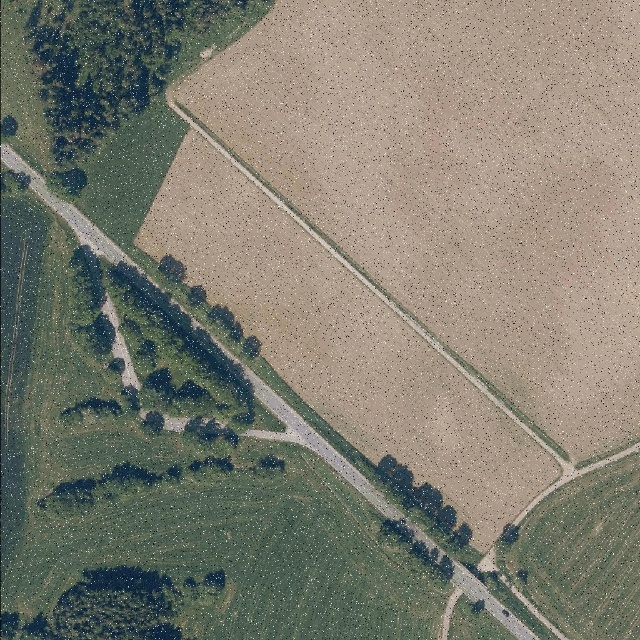vegetation: (22, 2, 274, 198), (109, 266, 254, 432), (44, 430, 284, 516), (0, 574, 228, 639), (61, 252, 141, 424), (153, 266, 261, 359), (370, 468, 465, 552), (378, 525, 449, 587)
